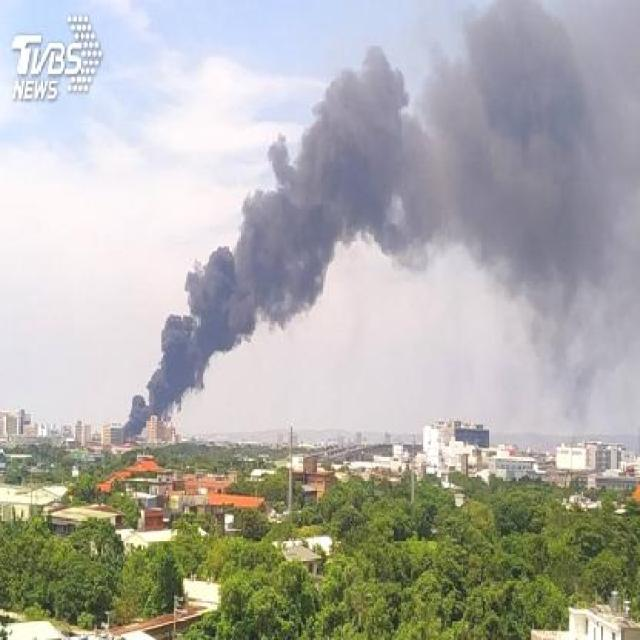Smoke: (117, 0, 640, 445)
